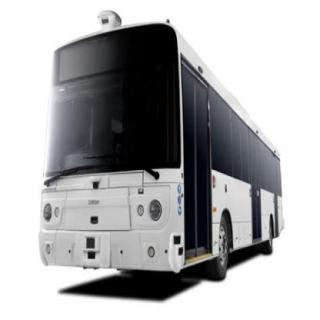Normal_vehicle: (25, 4, 298, 291)
